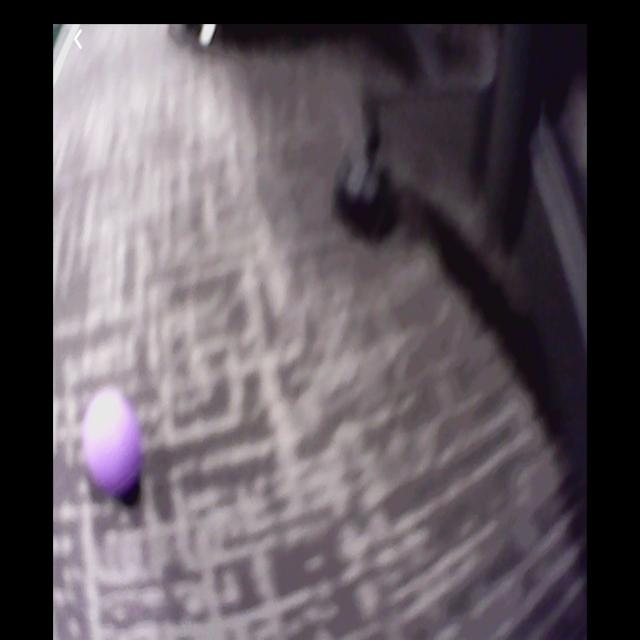ball: (80, 387, 143, 500)
